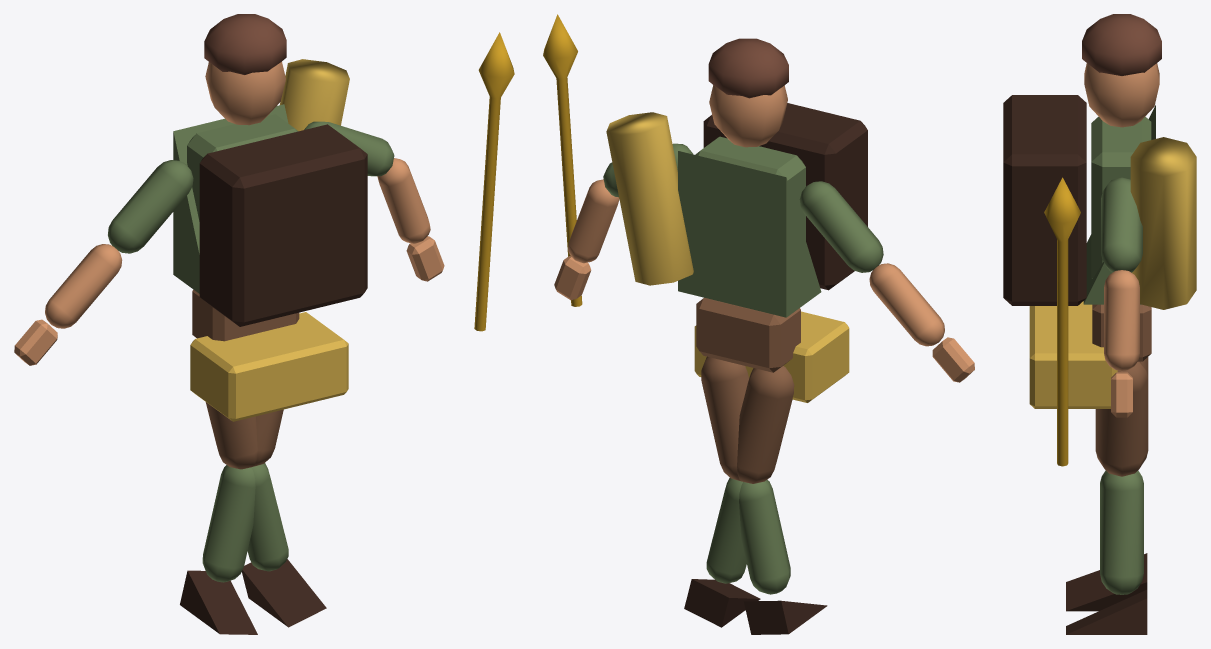
Rendered from adventurer.rustic.glb.
3 renders of one model, left to right at view 1: azimuth 30°, elevation 25°; view 2: azimuth 150°, elevation 25°; view 3: azimuth 270°, elevation 25°, orthographic. The views are drawn at different scales.
Parts seen in each view (by area): view 1: accessory.body, accessory.waist, shin.right, accessory.main-hand, upper-arm.left, hair, accessory.back, head, forearm.left, tunic, foot.left, foot.right (+9 smaller); view 2: tunic, accessory.back, accessory.body, pelvis, thigh.left, accessory.waist, shin.right, upper-arm.left, hair, thigh.right, head, accessory.main-hand (+8 smaller); view 3: accessory.body, accessory.back, accessory.waist, shin.left, accessory.main-hand, hair, thigh.right, torso, head, forearm.right, upper-arm.right, foot.left (+4 smaller).
Part boxes in pixels (left/top/right/bottom): accessory.body: left=199, top=124, right=367, bottom=326; accessory.waist: left=190, top=312, right=348, bottom=421; shin.right: left=202, top=465, right=255, bottom=582; accessory.main-hand: left=474, top=32, right=514, bottom=331; upper-arm.left: left=108, top=160, right=193, bottom=253; hair: left=204, top=14, right=286, bottom=74; accessory.back: left=280, top=59, right=349, bottom=131; head: left=205, top=61, right=285, bottom=125; forearm.left: left=45, top=244, right=122, bottom=328; tunic: left=173, top=104, right=288, bottom=293; foot.left: left=242, top=559, right=326, bottom=627; foot.right: left=180, top=570, right=257, bottom=634; tunic: left=678, top=151, right=821, bottom=317; accessory.back: left=606, top=112, right=693, bottom=285; accessory.body: left=703, top=103, right=867, bottom=290; pelvis: left=696, top=297, right=800, bottom=372; thigh.left: left=737, top=366, right=794, bottom=483; accessory.waist: left=694, top=311, right=849, bottom=402; shin.right: left=739, top=479, right=790, bottom=594; upper-arm.left: left=799, top=181, right=883, bottom=272; hair: left=708, top=38, right=788, bottom=98; thigh.right: left=701, top=356, right=748, bottom=481; head: left=709, top=85, right=787, bottom=147; accessory.main-hand: left=543, top=14, right=582, bottom=306; accessory.body: left=1003, top=95, right=1086, bottom=305; accessory.back: left=1130, top=137, right=1196, bottom=309; accessory.waist: left=1029, top=301, right=1117, bottom=408; shin.left: left=1100, top=471, right=1143, bottom=594; accessory.main-hand: left=1044, top=177, right=1080, bottom=466; hair: left=1082, top=14, right=1161, bottom=75; thigh.right: left=1095, top=361, right=1148, bottom=476; torso: left=1091, top=116, right=1151, bottom=278; head: left=1084, top=63, right=1159, bottom=127; forearm.right: left=1104, top=270, right=1139, bottom=371; upper-arm.right: left=1101, top=177, right=1142, bottom=272; foot.left: left=1066, top=590, right=1147, bottom=634.
Bounding box in the file's own units: 2.48 × 3.01 × 0.88.
